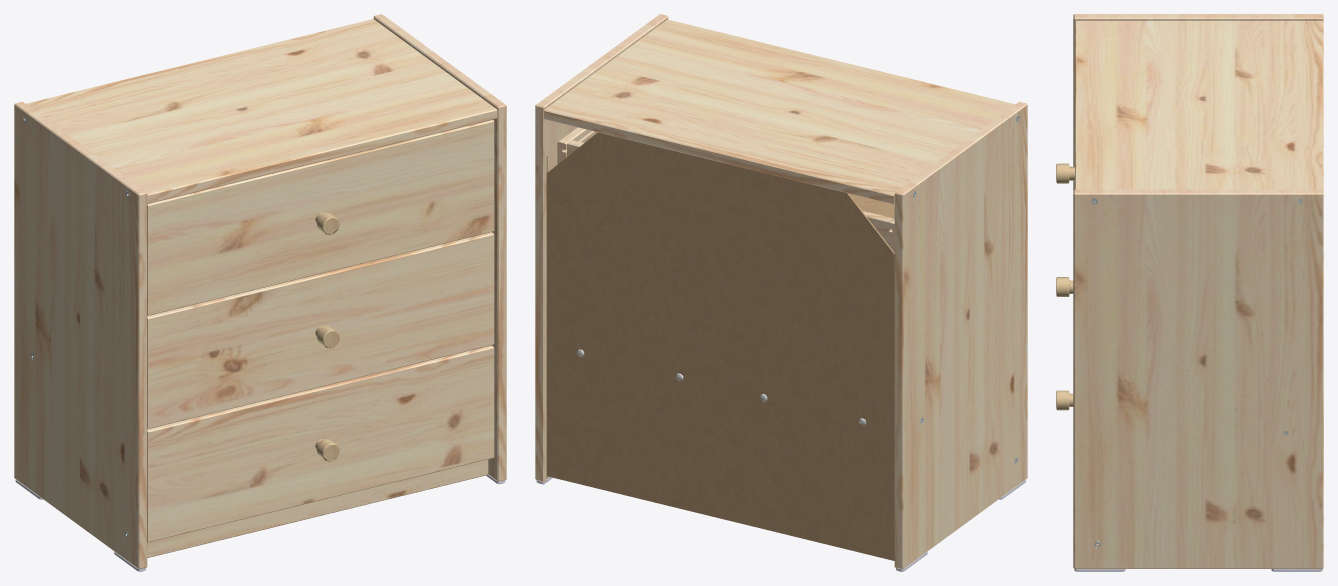
The picture shows the model from 3 angles, left to right: view 1: azimuth 30°, elevation 25°; view 2: azimuth 150°, elevation 25°; view 3: azimuth 270°, elevation 25°; orthographic projection.
Parts seen in each view (by area): view 1: ASY_ART_20609860_S01_NV01; view 2: ASY_ART_20609860_S01_NV01; view 3: ASY_ART_20609860_S01_NV01.
Part boxes in pixels (bbox=[...]): ASY_ART_20609860_S01_NV01: bbox=[14, 14, 506, 571]; ASY_ART_20609860_S01_NV01: bbox=[535, 14, 1027, 571]; ASY_ART_20609860_S01_NV01: bbox=[1056, 14, 1323, 571].
Bounding box in the file's own units: 0.597 × 0.585 × 0.374.
1 material, 1 textured.
